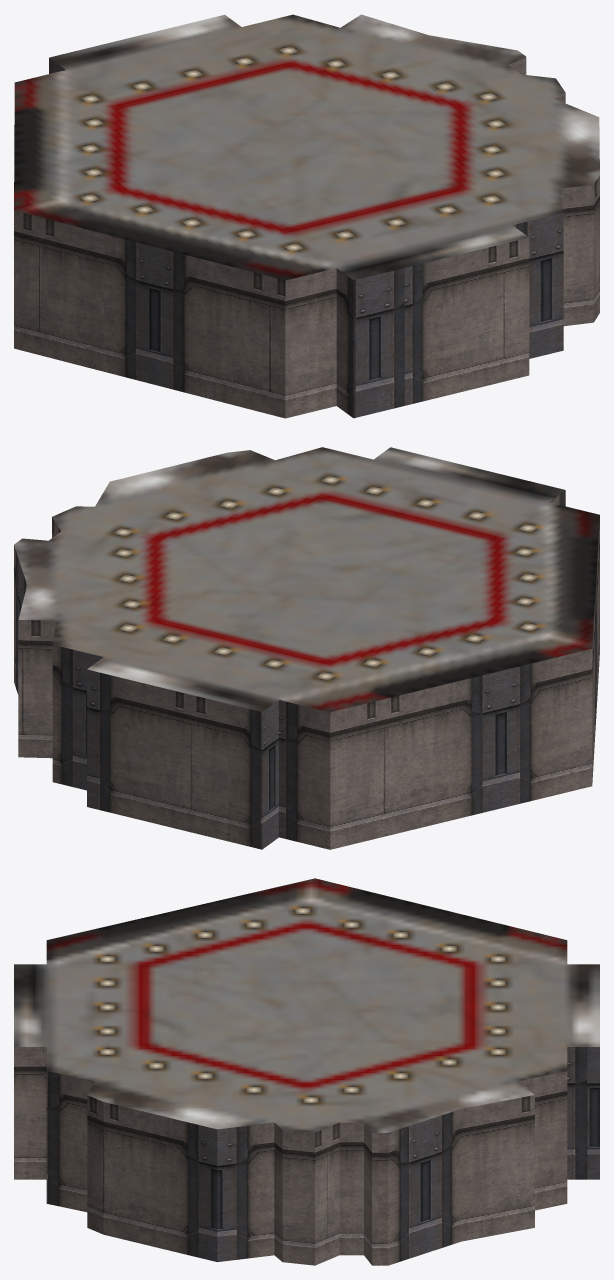
The model's file is bsealed_heavy_15.glb.
3 views of the same model, one above another, from view 1: azimuth 30°, elevation 25°; view 2: azimuth 150°, elevation 25°; view 3: azimuth 270°, elevation 25° (orthographic). The views are drawn at different scales.
Parts seen in each view (by area): view 1: buildings/saxarba/bsealed_heavy/bsealed_heavy_15; view 2: buildings/saxarba/bsealed_heavy/bsealed_heavy_15; view 3: buildings/saxarba/bsealed_heavy/bsealed_heavy_15.
Part boxes in pixels (bbox=[...]): buildings/saxarba/bsealed_heavy/bsealed_heavy_15: bbox=[14, 14, 599, 418]; buildings/saxarba/bsealed_heavy/bsealed_heavy_15: bbox=[14, 447, 599, 849]; buildings/saxarba/bsealed_heavy/bsealed_heavy_15: bbox=[14, 878, 599, 1265].
Bounding box in the file's own units: 74 × 18 × 72.
